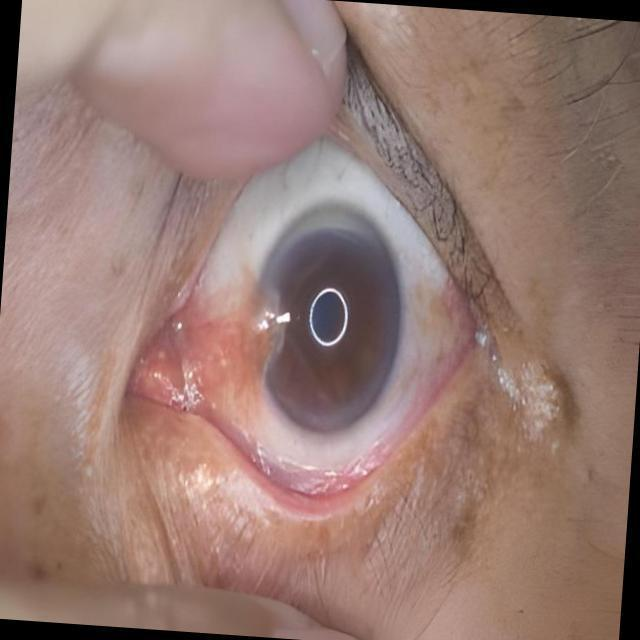Pterygium: (142, 295, 290, 417)
